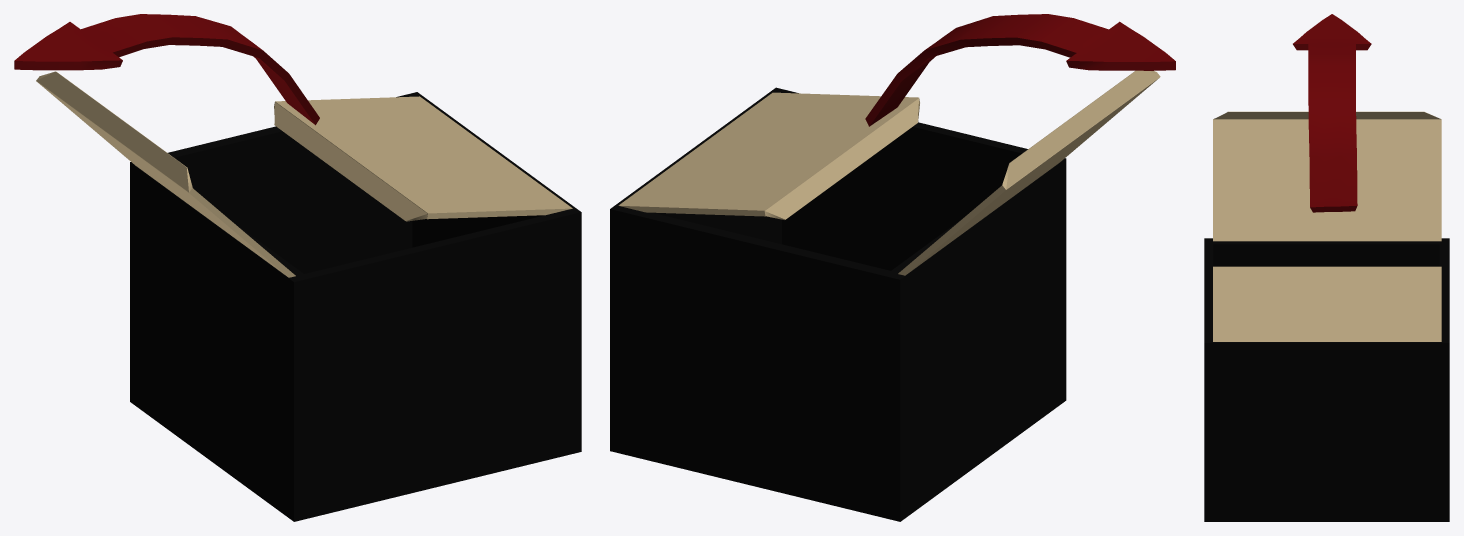
The model's file is IconOpenBox.fbx.
3 views of the same model, side by side, from view 1: azimuth 30°, elevation 25°; view 2: azimuth 150°, elevation 25°; view 3: azimuth 270°, elevation 25° (orthographic). The views are drawn at different scales.
Parts seen in each view (by area): view 1: Box, pCube2; view 2: Box, pCube2; view 3: Box, pCube2.
Boxes of the visible parts, box(x1,y1,x2,y2) form: Box: box(36, 71, 581, 521); pCube2: box(14, 14, 319, 125); Box: box(610, 70, 1160, 521); pCube2: box(865, 14, 1175, 126); Box: box(1204, 111, 1449, 521); pCube2: box(1293, 14, 1371, 212).
Size of the model in its own units: 0.1679 by 0.1494 by 0.0992.
